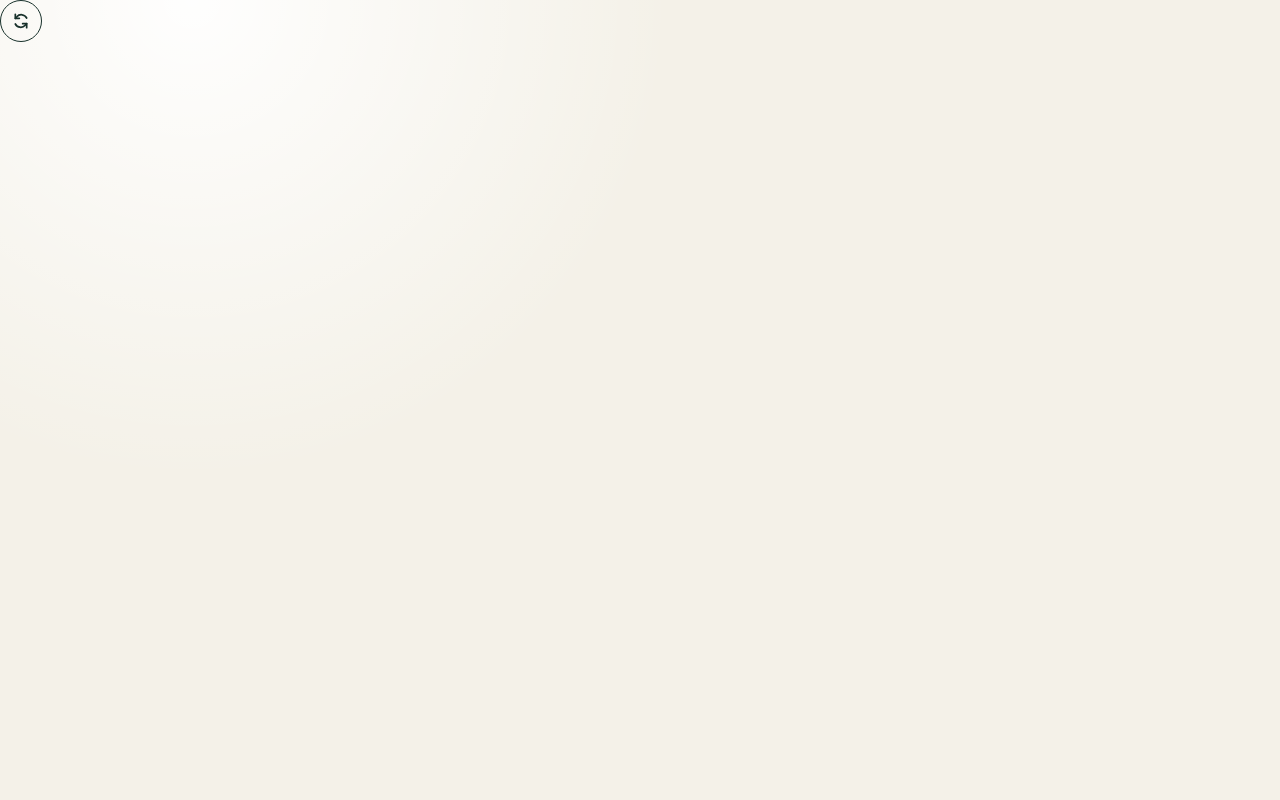
Test: SyncPanel: entry and local validation › shows password length guidance only on the registration form
Step 1. Click the button named "登录与数据同步" → (21, 21), box [0,0,42,42]
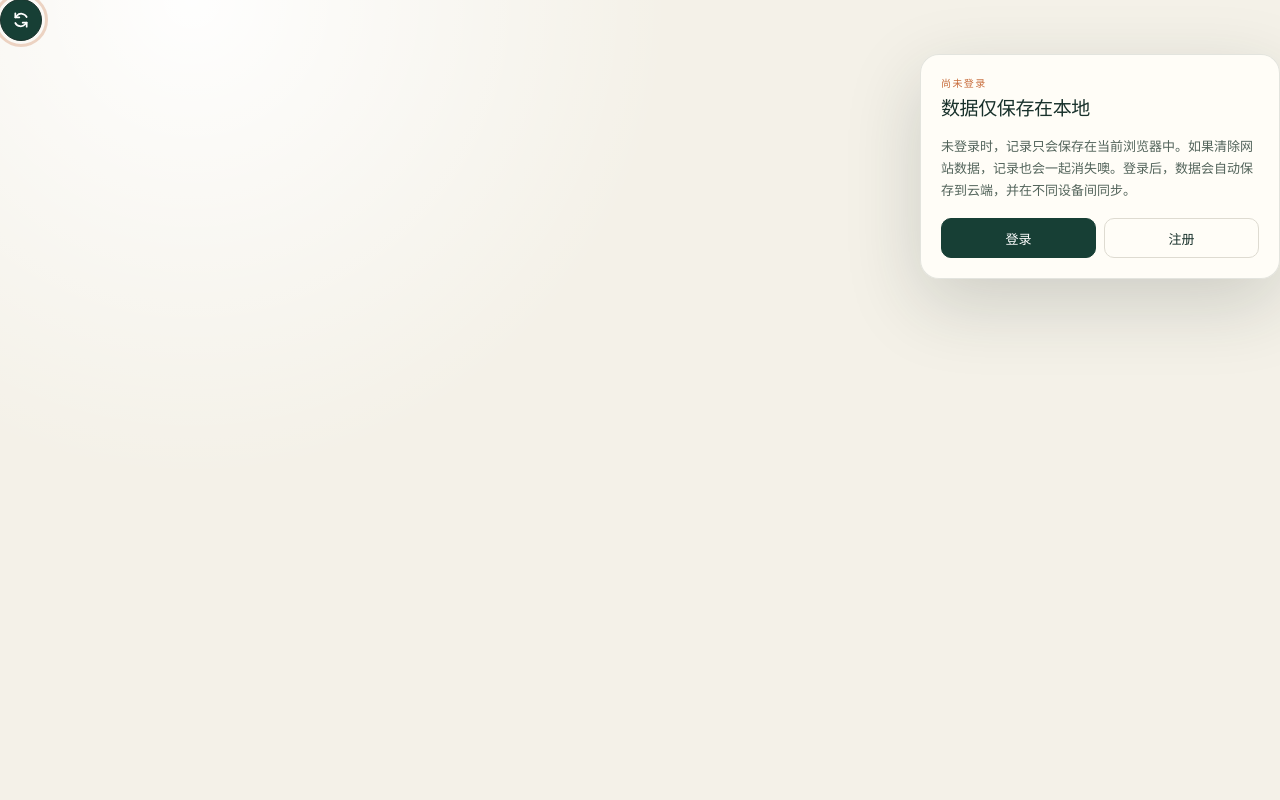
Expected: the button "注册" is shown, [1104,218,1259,258]
Step 2. Click the button "登录" → (1018, 238), box [941,218,1096,258]
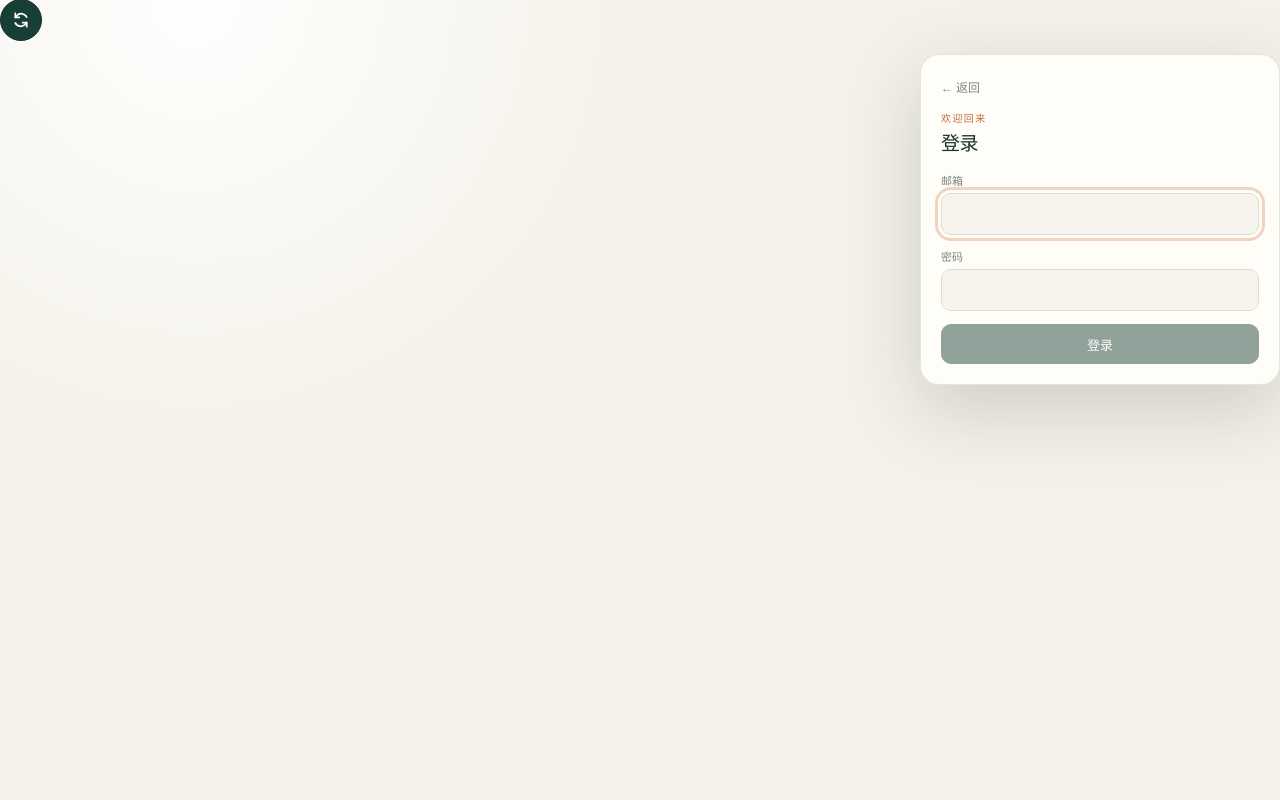
Expected: the text "至少 6 个字符" is not shown
Step 3. Click the button "← 返回" → (961, 87), box [941,76,980,98]
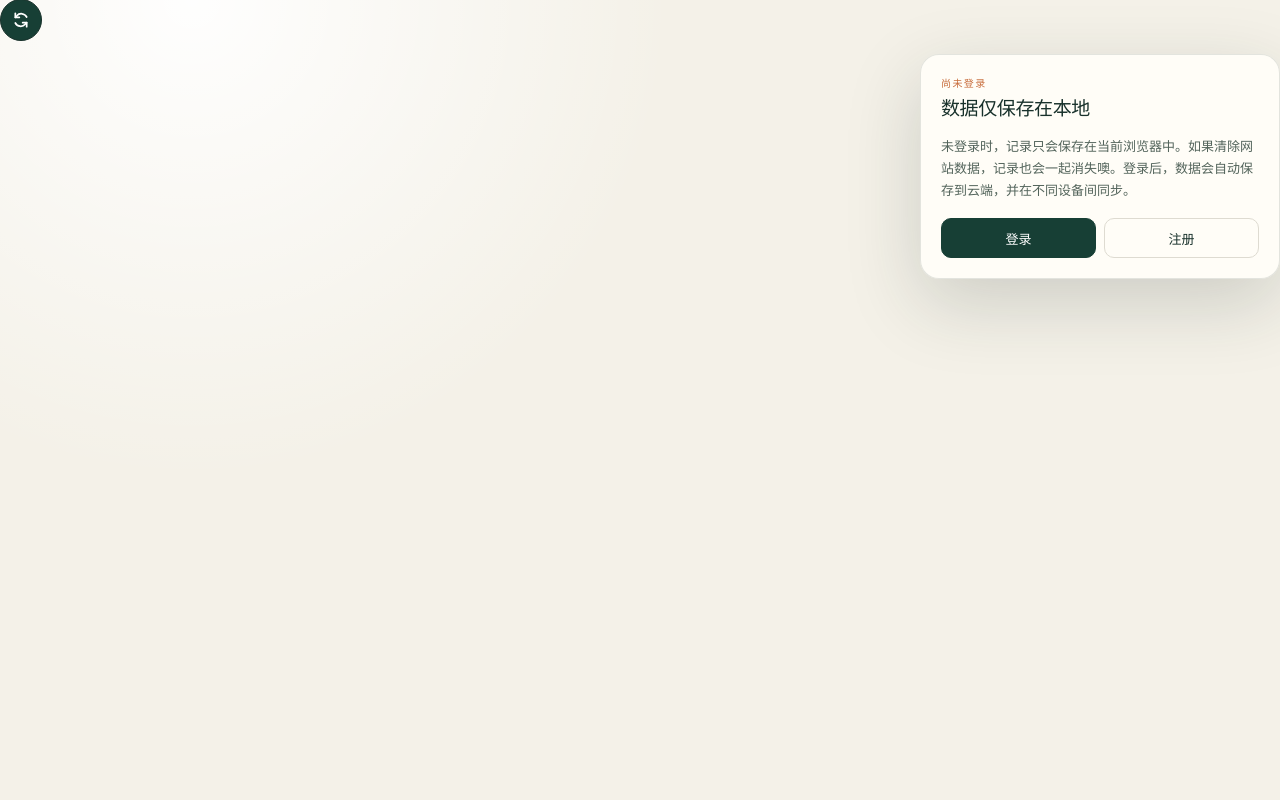
Step 4. Click the button "注册" → (1182, 238), box [1104,218,1259,258]
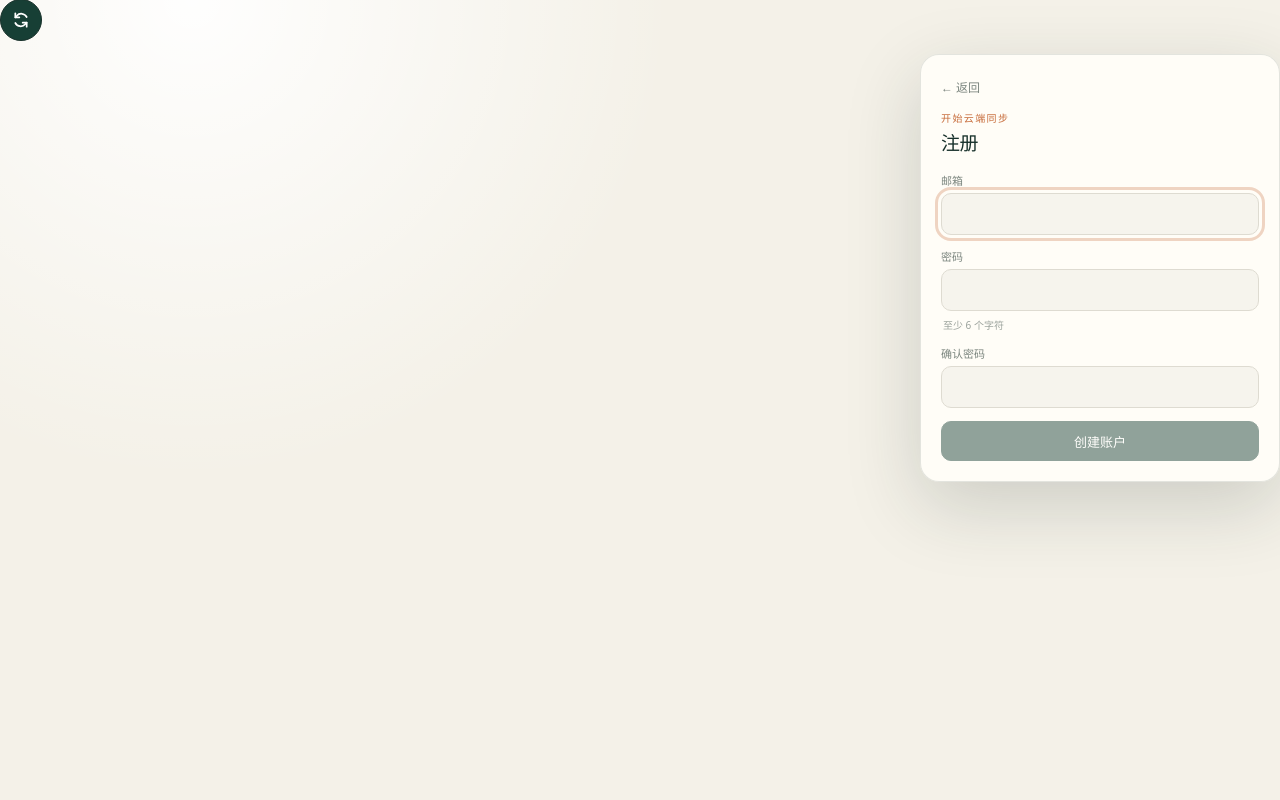
Expected: the text "至少 6 个字符" is shown, [943,318,1004,332]
